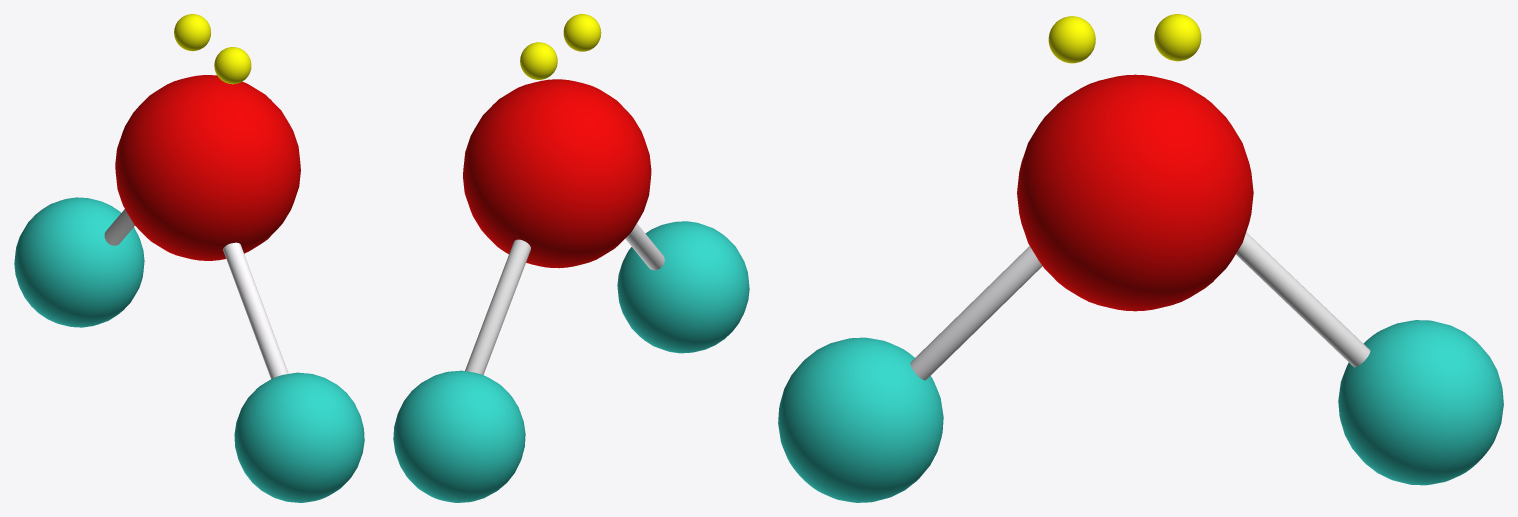
The model's file is H2O_Molecule.fbx.
3 renders of one model, left to right at view 1: azimuth 30°, elevation 25°; view 2: azimuth 150°, elevation 25°; view 3: azimuth 270°, elevation 25°, orthographic. The views are drawn at different scales.
Parts seen in each view (by area): view 1: Sphere, Sphere.002, Sphere.004, Cylinder.001, Sphere.001, Sphere.003, Cylinder.002; view 2: Sphere, Sphere.004, Sphere.002, Cylinder.002, Sphere.001, Sphere.003, Cylinder.001; view 3: Sphere, Sphere.002, Sphere.004, Cylinder.002, Cylinder.001, Sphere.001, Sphere.003.
Boxes of the visible parts, x1,y1,x2,y2 form: Sphere: [115, 75, 300, 260]; Sphere.002: [234, 372, 364, 502]; Sphere.004: [14, 197, 144, 327]; Cylinder.001: [223, 242, 288, 378]; Sphere.001: [214, 47, 251, 84]; Sphere.003: [174, 14, 210, 51]; Cylinder.002: [104, 209, 134, 245]; Sphere: [463, 79, 651, 268]; Sphere.004: [393, 370, 525, 502]; Sphere.002: [617, 221, 749, 353]; Cylinder.002: [465, 239, 530, 374]; Sphere.001: [563, 14, 601, 51]; Sphere.003: [520, 42, 557, 79]; Cylinder.001: [625, 223, 664, 270]; Sphere: [1017, 74, 1253, 311]; Sphere.002: [778, 337, 943, 502]; Sphere.004: [1338, 320, 1503, 485]; Cylinder.002: [1235, 232, 1370, 367]; Cylinder.001: [910, 246, 1042, 380]; Sphere.001: [1048, 16, 1095, 63]; Sphere.003: [1154, 14, 1201, 61].
Bounding box in the file's own units: 200 × 457 × 613.
